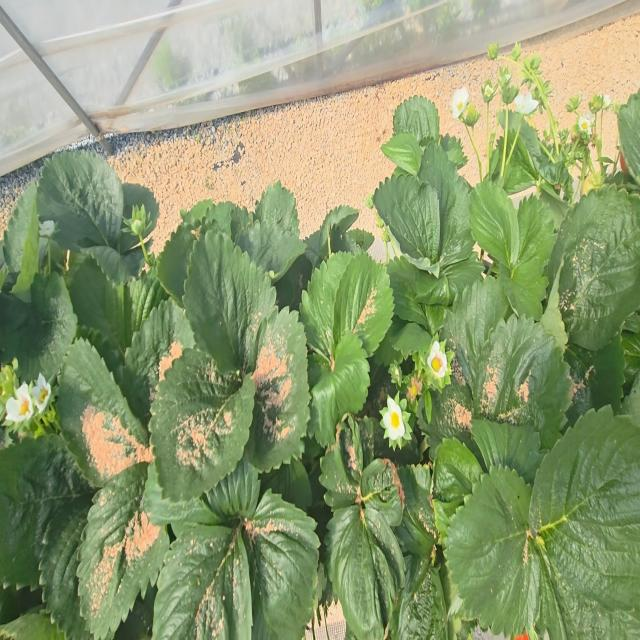Flowers: (381, 396, 411, 449), (6, 382, 34, 422), (427, 340, 447, 381), (31, 373, 51, 411), (451, 87, 469, 118), (514, 92, 538, 114), (482, 79, 496, 103), (578, 114, 592, 135), (40, 220, 55, 237), (602, 94, 612, 108)
Leaves: (529, 406, 640, 639), (77, 463, 169, 639), (149, 348, 255, 500), (549, 185, 640, 350), (445, 467, 532, 635), (0, 436, 94, 587), (58, 341, 151, 486), (183, 232, 277, 373), (474, 315, 572, 447), (243, 489, 320, 639), (153, 526, 252, 639), (327, 505, 405, 639), (116, 299, 195, 428), (248, 308, 310, 471), (38, 151, 123, 251), (420, 358, 485, 469), (40, 497, 90, 639), (311, 331, 370, 446), (443, 279, 507, 385), (333, 254, 394, 357), (18, 273, 76, 380), (419, 143, 472, 256), (300, 252, 351, 366), (375, 175, 440, 261), (431, 438, 482, 542), (471, 420, 544, 481), (470, 180, 519, 268), (235, 220, 304, 277), (512, 196, 555, 281), (398, 567, 447, 639), (490, 126, 538, 194), (158, 224, 196, 306), (498, 259, 547, 319), (387, 260, 429, 328), (361, 459, 402, 526), (320, 441, 356, 510), (256, 181, 299, 238), (393, 95, 439, 145), (382, 133, 424, 175), (438, 134, 467, 169)
Strawberries: (126, 205, 150, 267), (583, 171, 604, 194), (407, 375, 422, 403)
